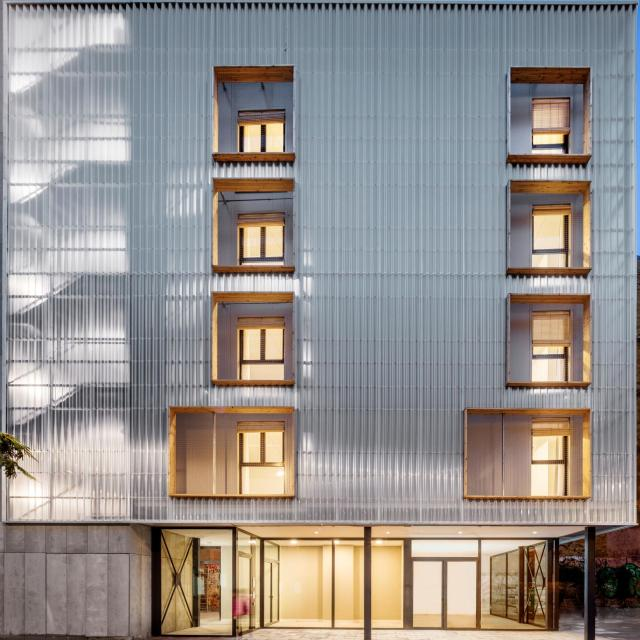door: (403, 556, 481, 629)
window: (239, 430, 282, 494), (239, 327, 280, 380), (530, 434, 562, 496), (529, 215, 563, 268), (529, 345, 564, 382), (242, 225, 280, 257), (242, 125, 282, 152), (528, 135, 564, 153)
